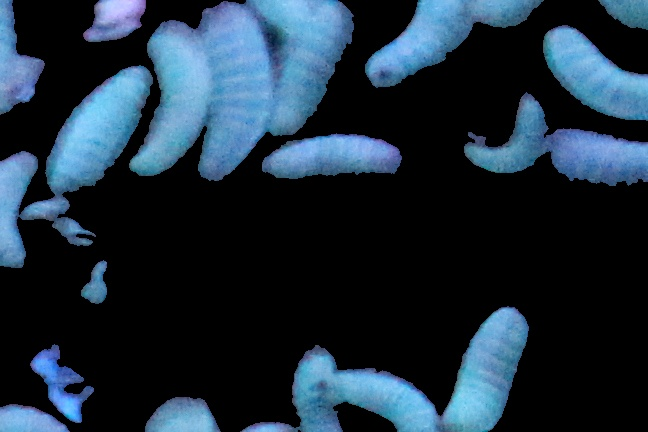larvae: (44, 60, 154, 187), (124, 21, 207, 178), (197, 11, 272, 177), (438, 304, 530, 432), (543, 22, 648, 124), (353, 2, 478, 85), (269, 14, 344, 132), (462, 92, 553, 176), (325, 366, 439, 432), (262, 131, 403, 179), (552, 126, 648, 191), (1, 146, 41, 271), (291, 346, 343, 432), (1, 1, 16, 126)
